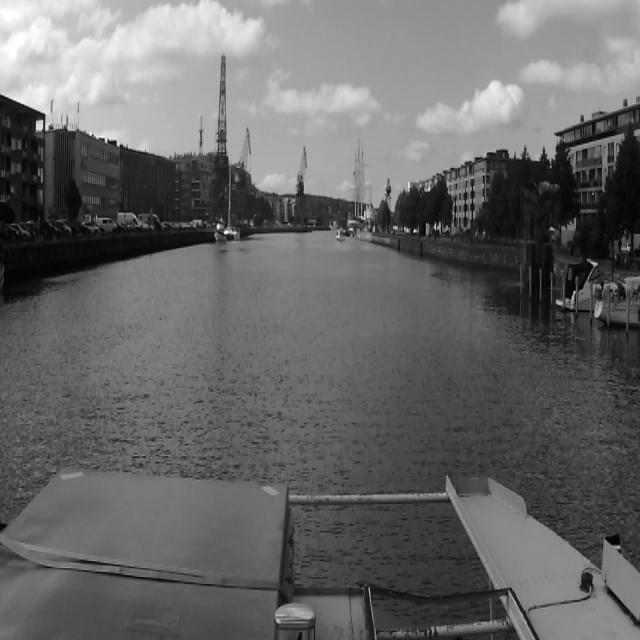ship: (346, 138, 372, 225), (225, 163, 239, 241), (213, 220, 227, 242), (337, 228, 345, 242)
